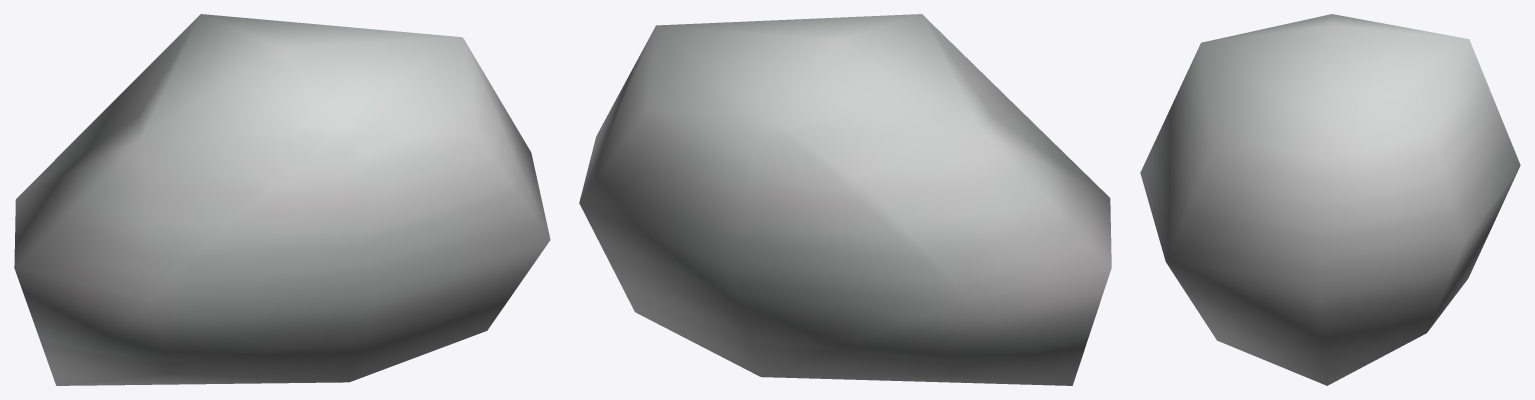
File: moln.glb
The picture shows the model from 3 angles, left to right: view 1: azimuth 30°, elevation 25°; view 2: azimuth 150°, elevation 25°; view 3: azimuth 270°, elevation 25°; orthographic projection. The views are drawn at different scales.
Parts seen in each view (by area): view 1: Cloud001; view 2: Cloud001; view 3: Cloud001.
Part boxes in pixels (<box>): Cloud001: <box>14,14,550,385</box>; Cloud001: <box>579,14,1111,385</box>; Cloud001: <box>1140,14,1520,385</box>.
Bounding box in the file's own units: 577 × 343 × 405.
Materials: 1 (1 with a texture image).
